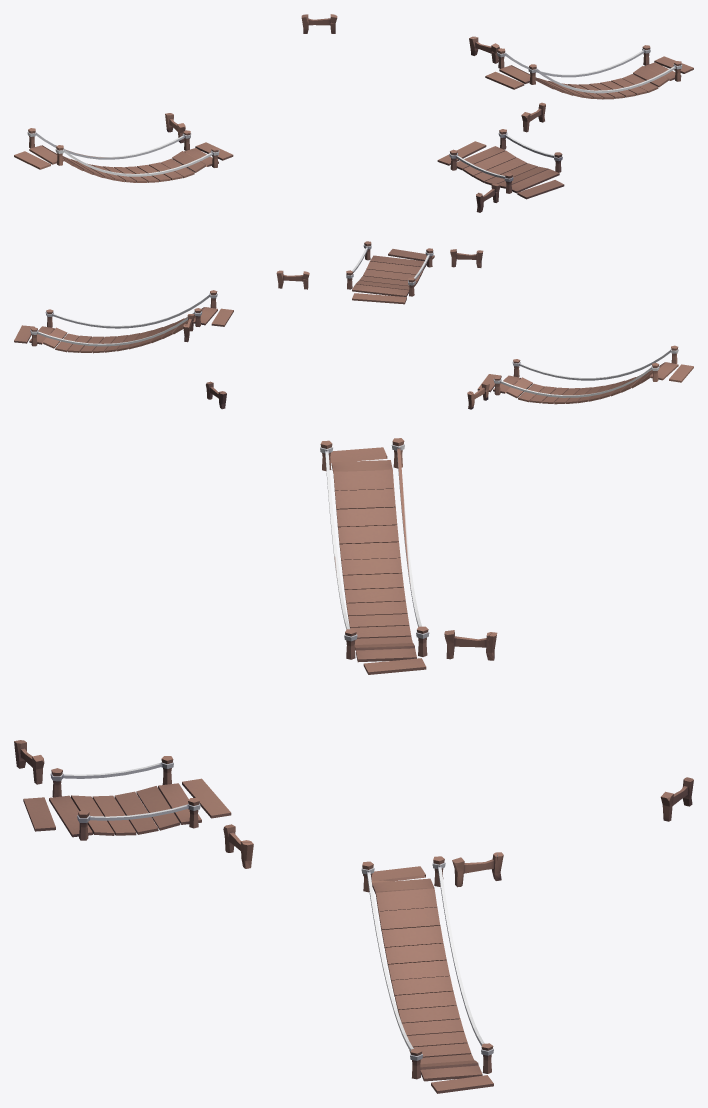
The model's file is Wood_02.FBX.
The picture shows the model from 3 angles, top to bottom: view 1: azimuth 30°, elevation 25°; view 2: azimuth 150°, elevation 25°; view 3: azimuth 270°, elevation 25°; orthographic projection. The views are drawn at different scales.
Visible parts, largest first — view 1: Wood_02; view 2: Wood_02; view 3: Wood_02.
Boxes of the visible parts, x1=… form: Wood_02: x1=14, y1=14, x2=693, y2=212; Wood_02: x1=14, y1=241, x2=693, y2=409; Wood_02: x1=14, y1=438, x2=693, y2=1093.
Size of the model in its own units: 39.94 by 6.48 by 22.87.
